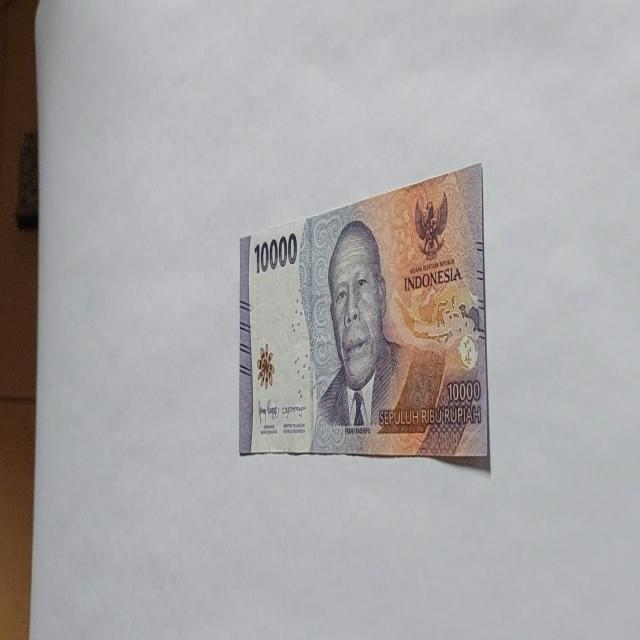sepuluh ribu rupiah: (238, 162, 490, 468)
